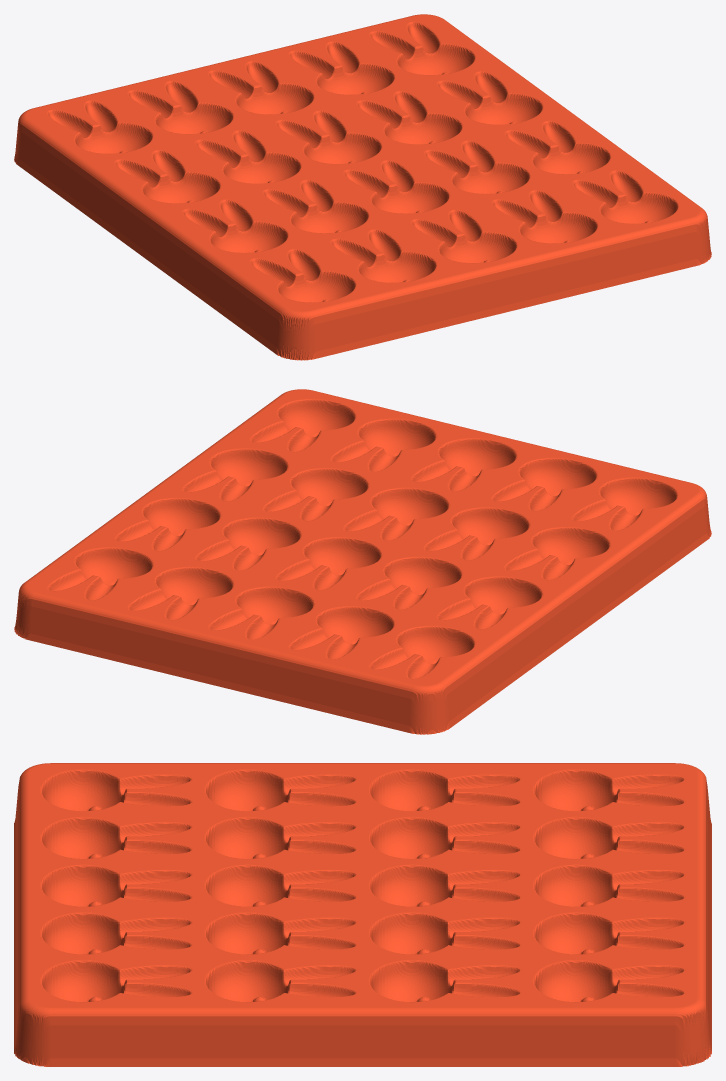
File: mold.glb
The picture shows the model from 3 angles, top to bottom: view 1: azimuth 30°, elevation 25°; view 2: azimuth 150°, elevation 25°; view 3: azimuth 270°, elevation 25°; orthographic projection. The views are drawn at different scales.
Visible parts, largest first — view 1: geometry_0; view 2: geometry_0; view 3: geometry_0.
Part boxes in pixels (x1,y1,x2,y2): geometry_0: (14,14,711,360); geometry_0: (14,389,711,734); geometry_0: (14,763,711,1066).
Size of the model in its own units: 0.1495 by 0.0145 by 0.1724.
